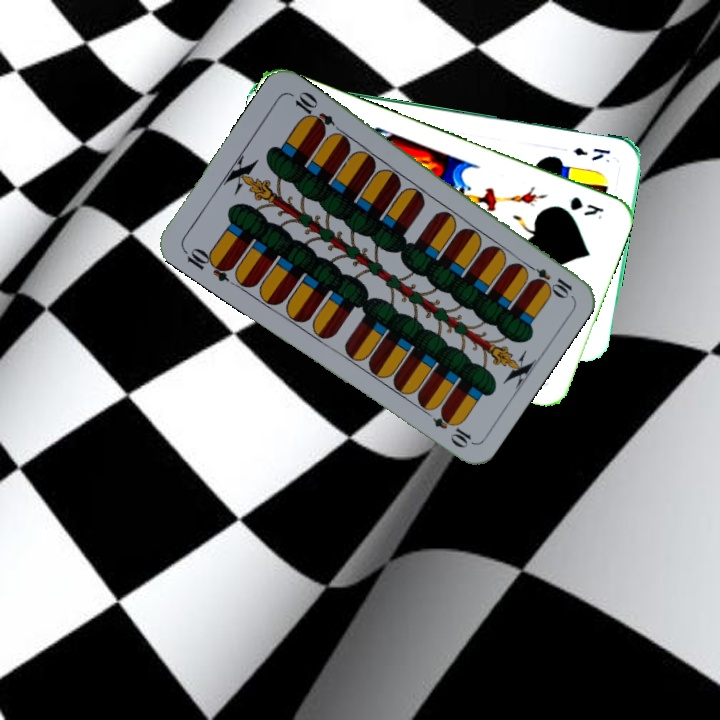E10: (179, 243, 236, 284), (520, 258, 575, 299)
EK: (569, 143, 613, 163)
GK: (566, 192, 607, 219)
